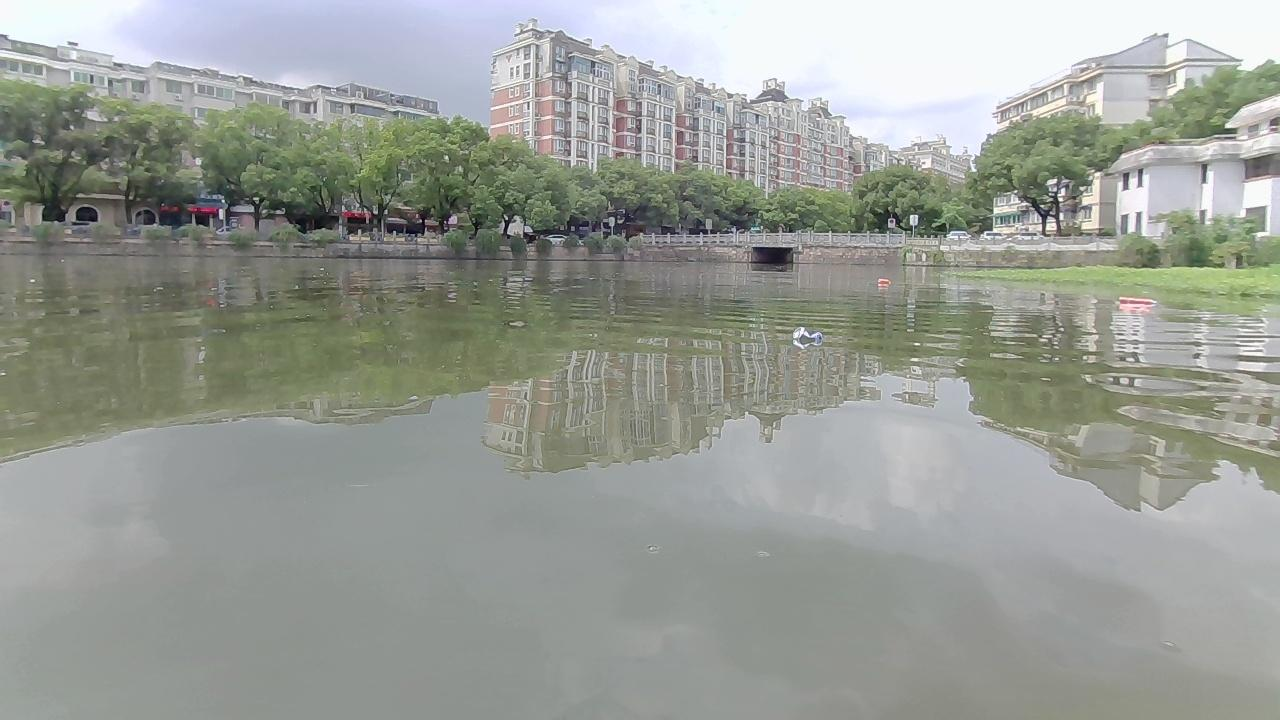bottle: (792, 325, 822, 338), (1118, 295, 1156, 302), (876, 278, 890, 282)
